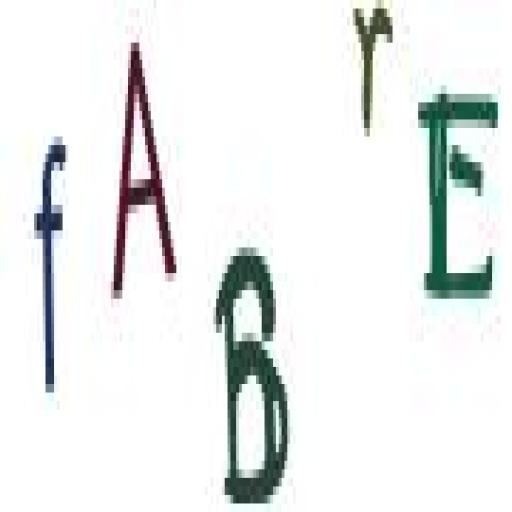A: (108, 34, 184, 312)
B: (208, 230, 295, 506)
E: (414, 74, 504, 308)
f: (31, 116, 73, 411)
r: (349, 2, 397, 144)
